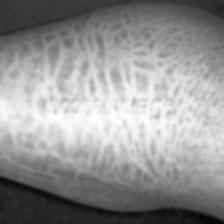Non-Cancerous Skin Condition: (0, 40, 204, 181)
